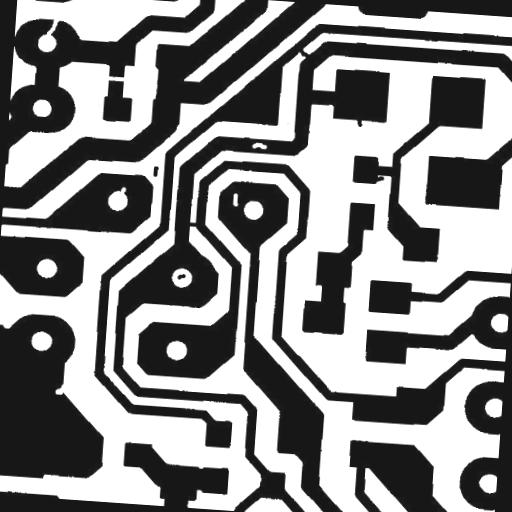copper: (144, 158, 166, 185), (170, 265, 194, 288)
mousebite: (46, 376, 74, 402), (113, 178, 134, 200)
open: (38, 7, 68, 44), (97, 68, 133, 89)
pin-hole: (244, 134, 274, 157), (224, 185, 246, 214)
short: (290, 38, 322, 68), (180, 214, 205, 235)
spur: (366, 168, 392, 190), (348, 110, 370, 134)
